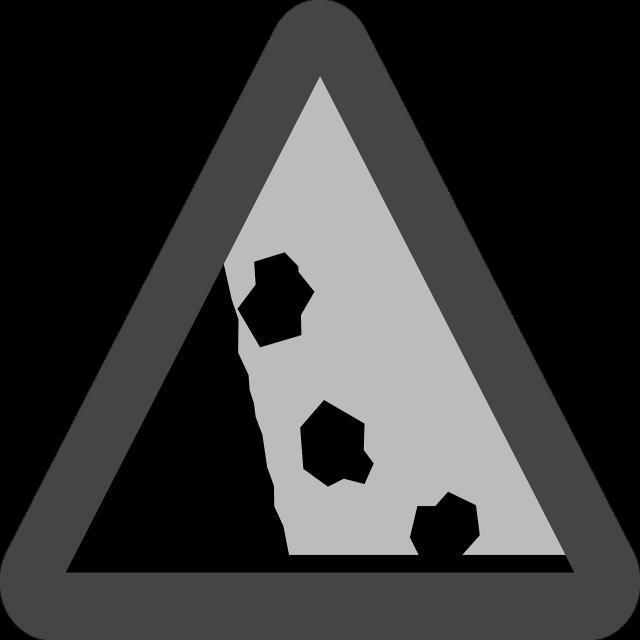falling rocks: (26, 20, 613, 619)
